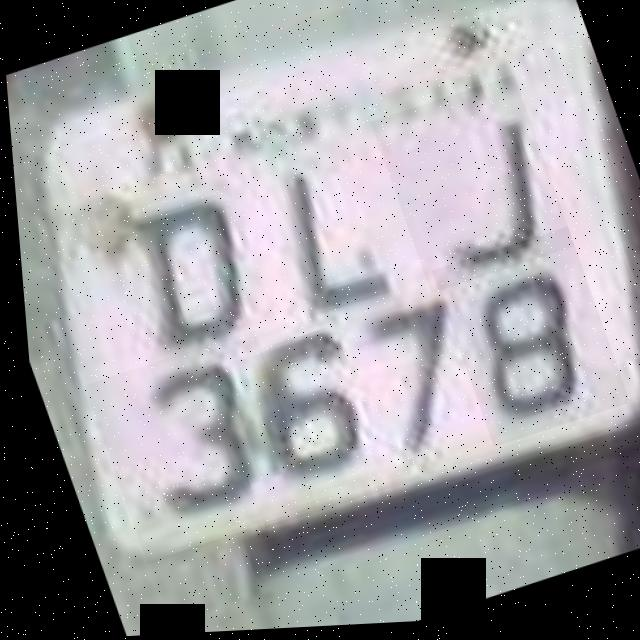3: (74, 330, 311, 567)
6: (190, 289, 415, 534)
7: (315, 269, 512, 481)
8: (424, 230, 625, 453)
J: (365, 78, 573, 299), (225, 126, 420, 343)
O: (88, 170, 279, 386)
